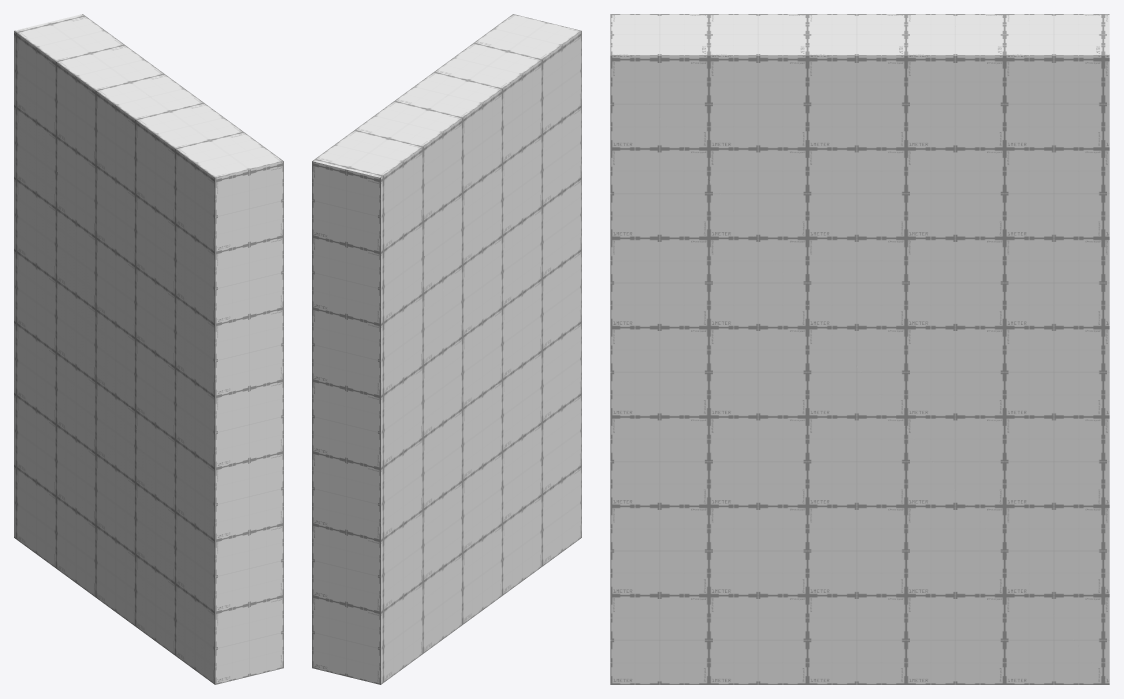
The model's file is Barrier3.fbx.
3 renders of one model, left to right at view 1: azimuth 30°, elevation 25°; view 2: azimuth 150°, elevation 25°; view 3: azimuth 270°, elevation 25°, orthographic. The views are drawn at different scales.
Parts seen in each view (by area): view 1: Barrier3; view 2: Barrier3; view 3: Barrier3.
Boxes of the visible parts, x1,y1,x2,y2 form: Barrier3: [14, 14, 283, 684]; Barrier3: [312, 14, 581, 684]; Barrier3: [610, 14, 1109, 684].
Size of the model in its own units: 100 by 704 by 506.
